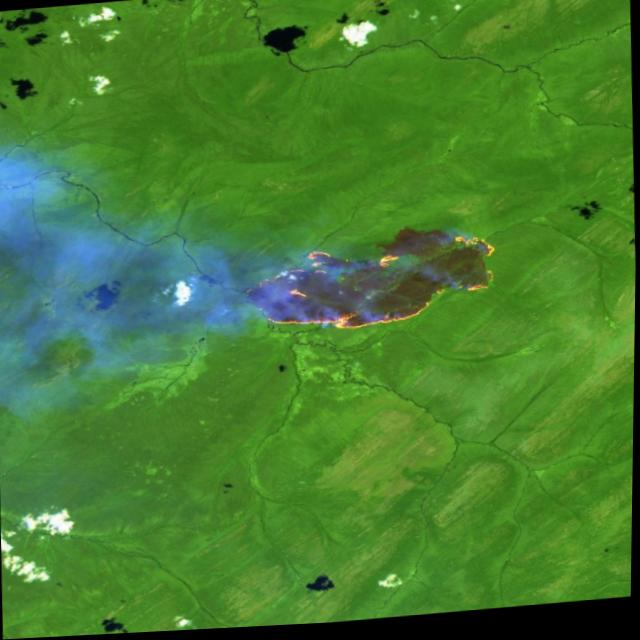fire: (237, 231, 509, 343)
